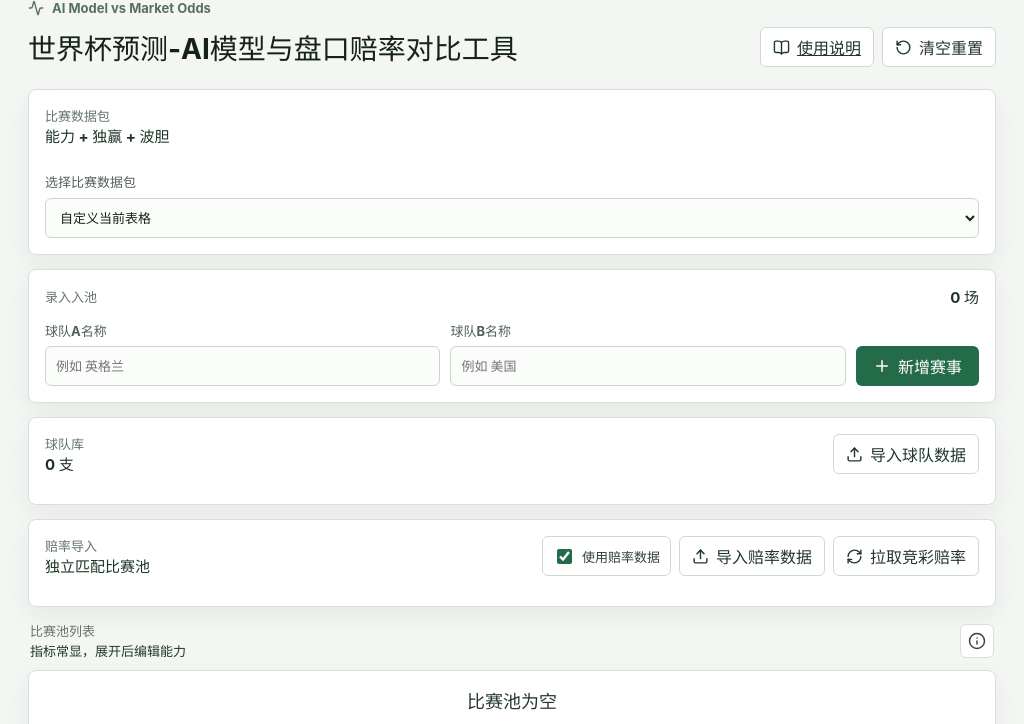
Test: App › adds matches to the empty pool
Step 1. Type "英格兰" into the field labelled "球队A名称" → (243, 366), box [45, 346, 440, 386]
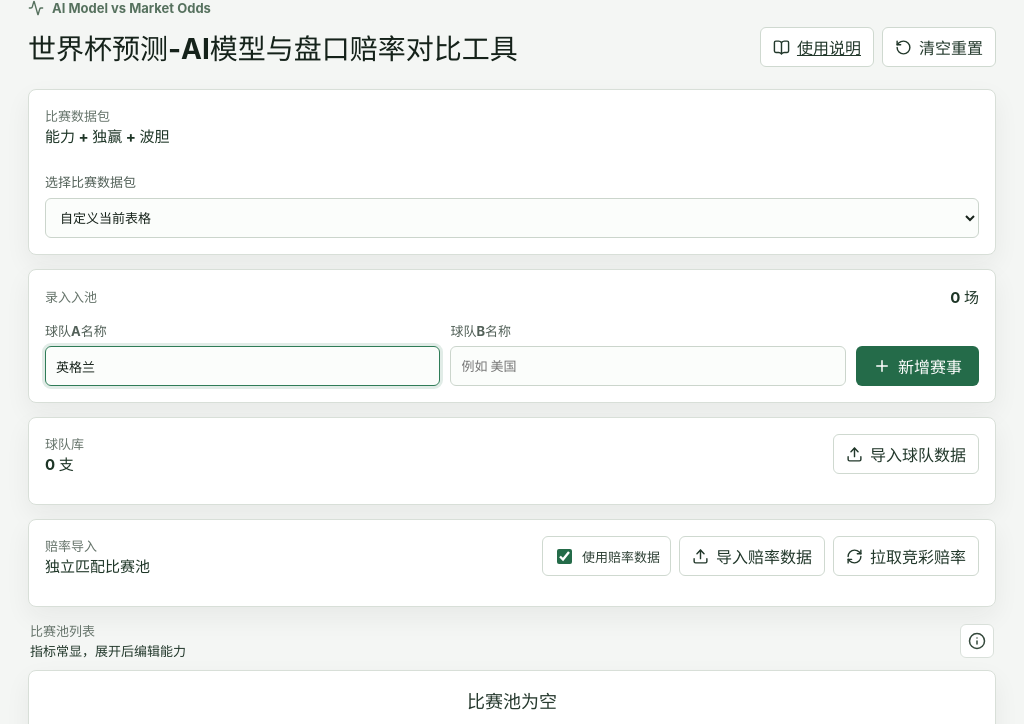
Step 2. Type "美国" into the field labelled "球队B名称" → (648, 366), box [450, 346, 846, 386]
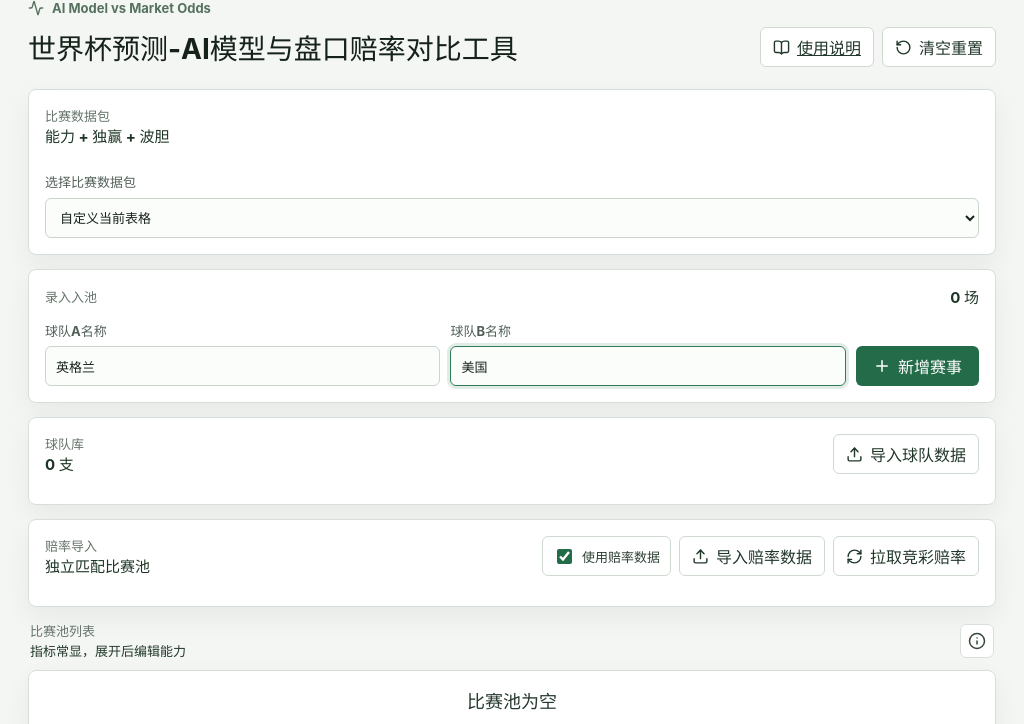
Step 3. Click the button "新增赛事" → (918, 366), box [856, 346, 979, 386]
(page scrolled)
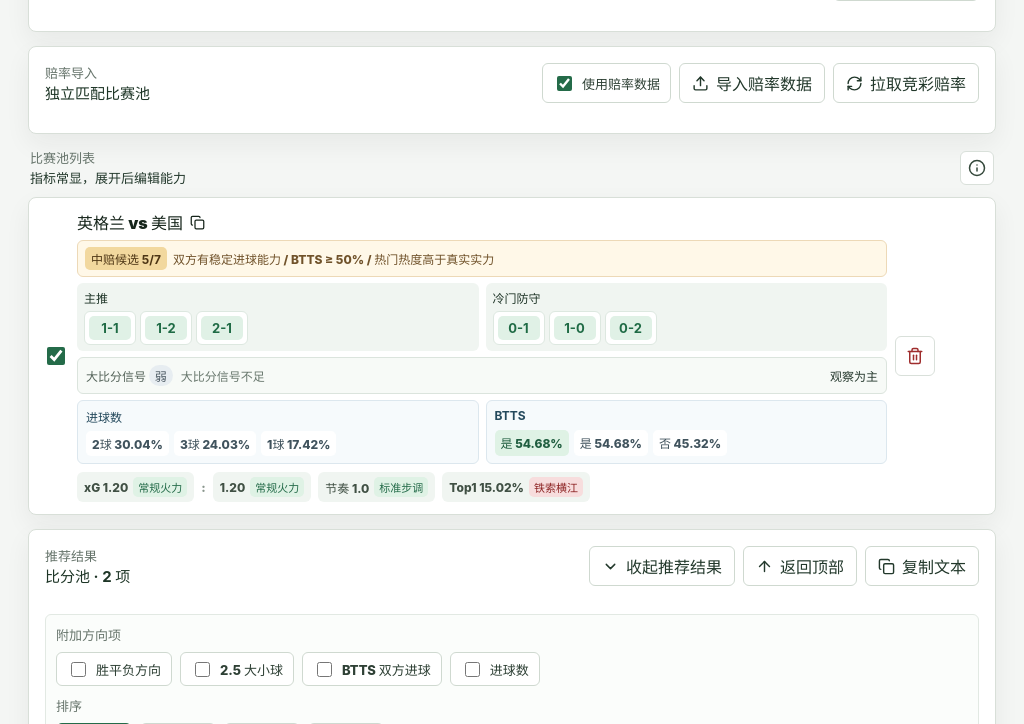
Expected: the text "英格兰 vs 美国" is shown, [77, 210, 183, 234]
Expected: the checkbox named "选择 英格兰 vs 美国" is checked, [46, 347, 64, 365]
